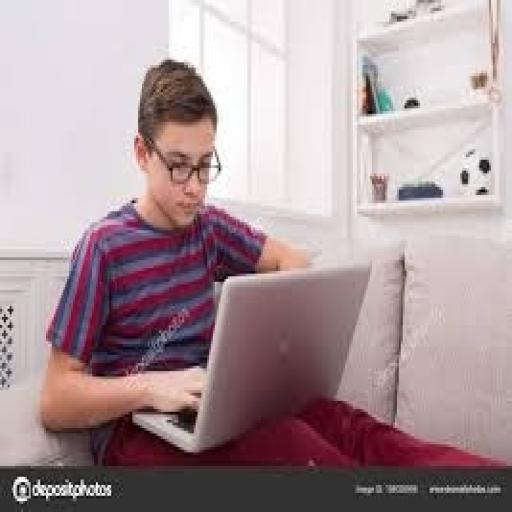using_laptop: (128, 257, 372, 455)
